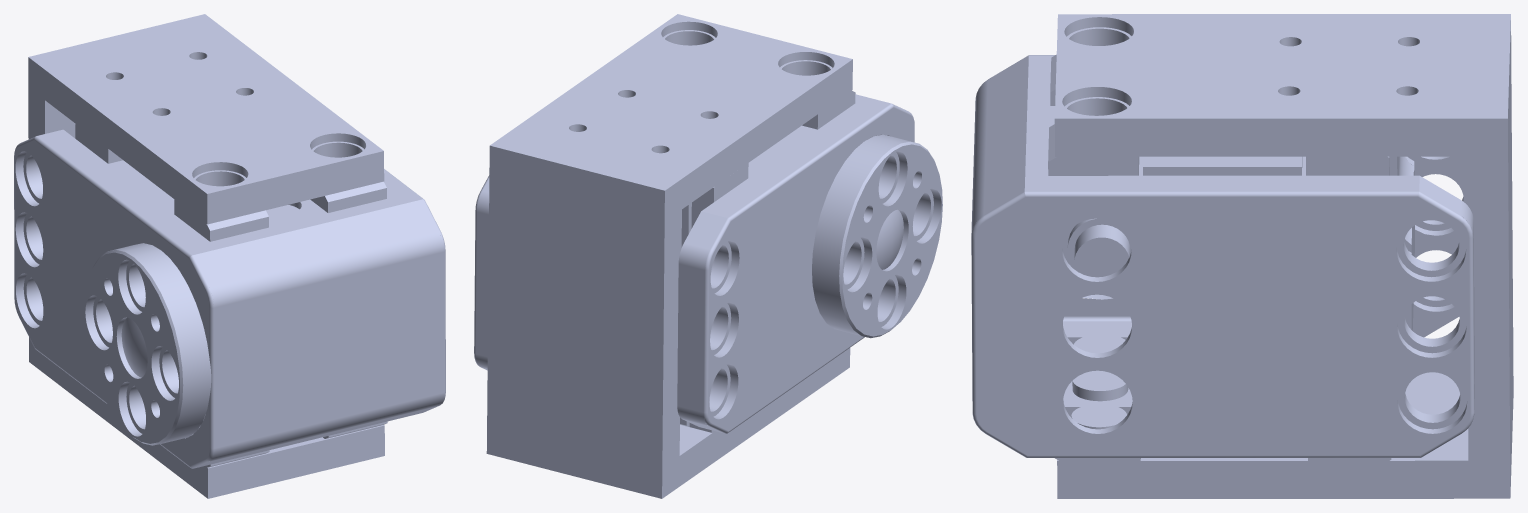
3 views of the same model, side by side, from view 1: azimuth 30°, elevation 25°; view 2: azimuth 150°, elevation 25°; view 3: azimuth 270°, elevation 25° (orthographic). The views are drawn at different scales.
Visible parts, largest first — view 1: NONE_DC_Shell, Cut_Extrude3_DC_Shell; view 2: Cut_Extrude3_DC_Shell, NONE_DC_Shell; view 3: NONE_DC_Shell, Cut_Extrude3_DC_Shell.
Boxes of the visible parts, x1=… form: NONE_DC_Shell: x1=14, y1=124, x2=445, y2=468; Cut_Extrude3_DC_Shell: x1=28, y1=14, x2=384, y2=498; Cut_Extrude3_DC_Shell: x1=486, y1=14, x2=852, y2=498; NONE_DC_Shell: x1=474, y1=90, x2=942, y2=433; NONE_DC_Shell: x1=971, y1=54, x2=1474, y2=460; Cut_Extrude3_DC_Shell: x1=1054, y1=14, x2=1513, y2=498.
Size of the model in its own units: 27.5 by 30.32 by 38.89.
